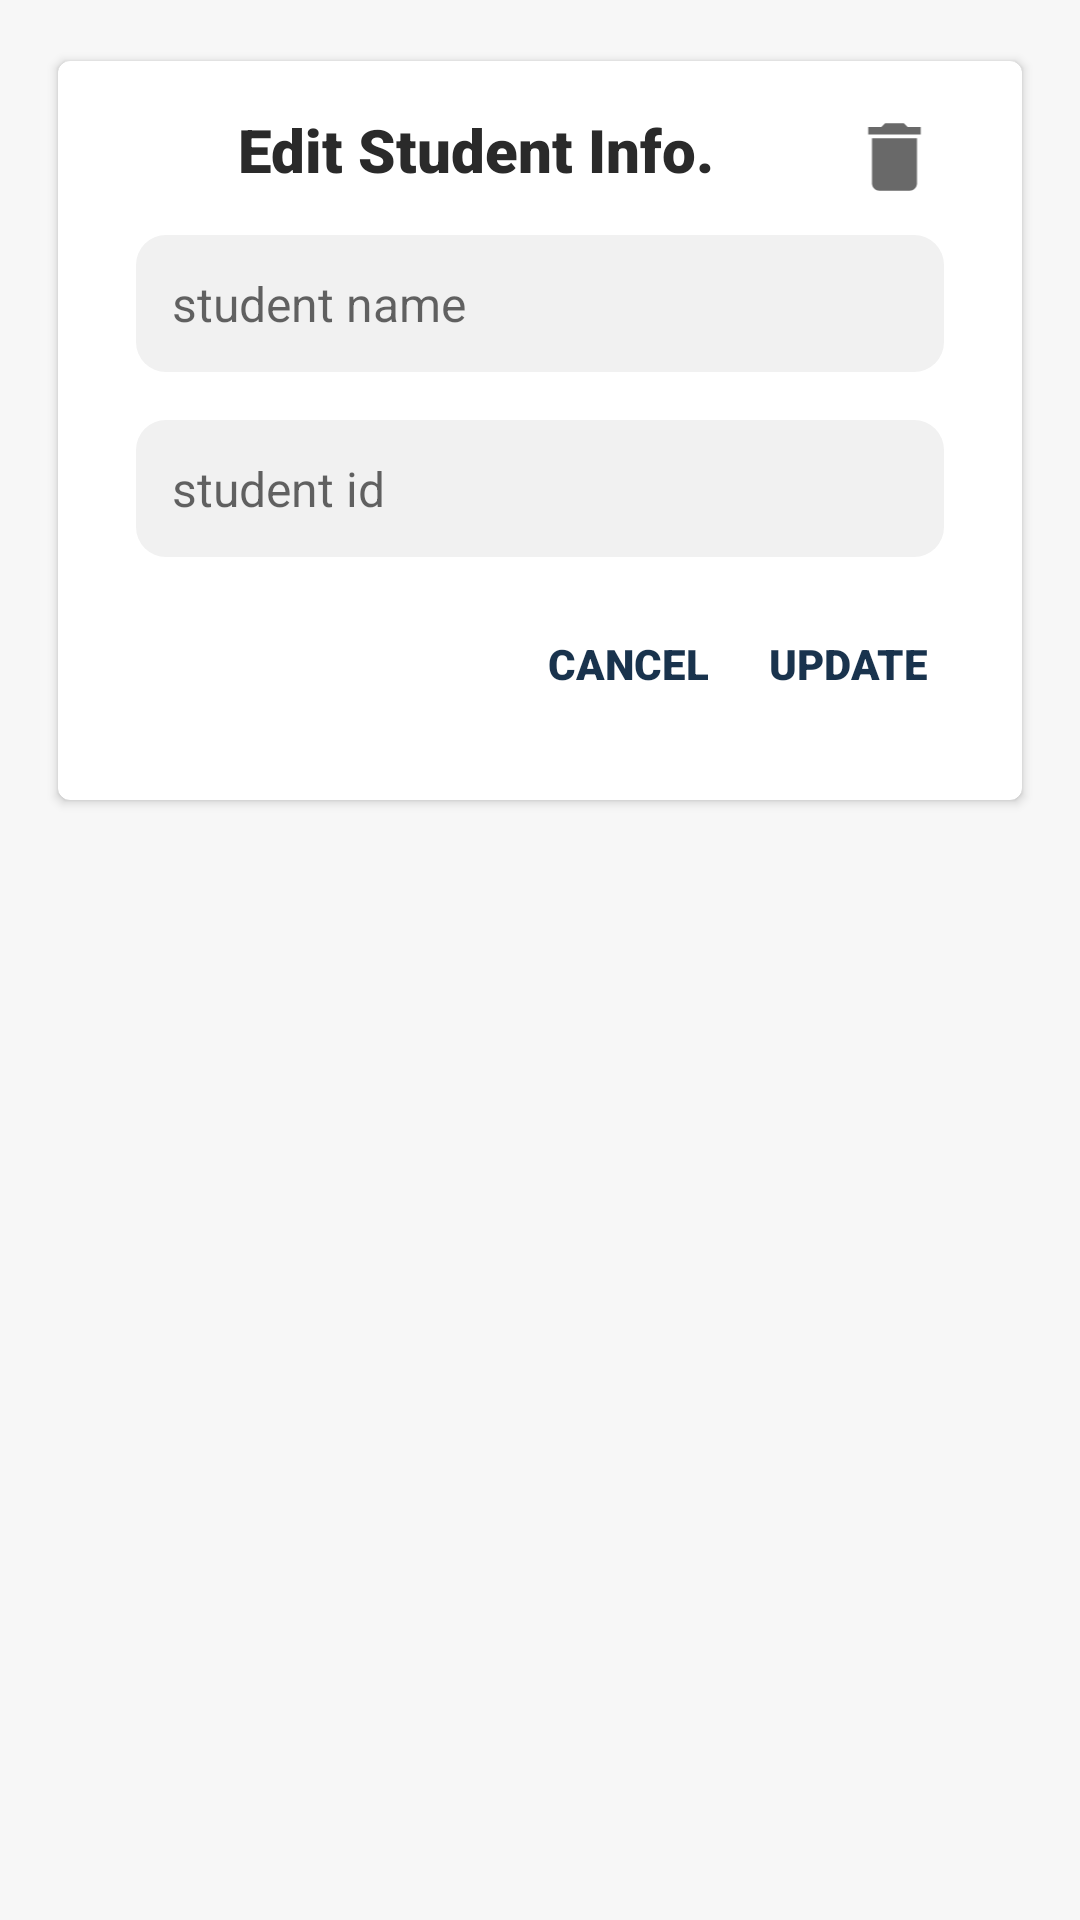

Where icons sit on this 1080*1920 app screen, as {"x1": x1, "y1": y1, "x2": x2, "y2": y2}:
delete: {"x1": 868, "y1": 123, "x2": 921, "y2": 191}
